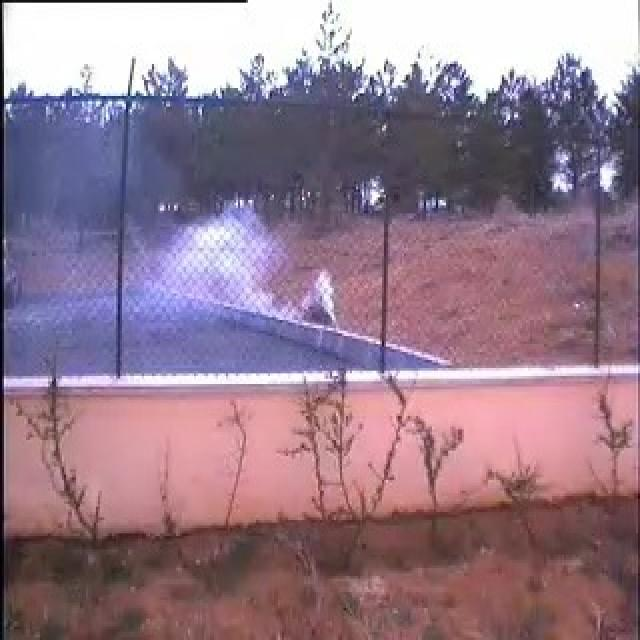smoke: (133, 193, 317, 364)
